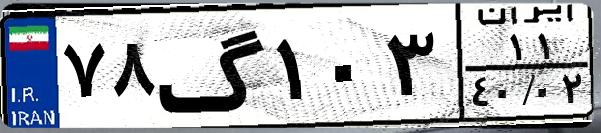0: (330, 28, 385, 110), (495, 70, 520, 125), (535, 70, 560, 125)
1: (270, 28, 330, 110), (537, 27, 568, 80), (508, 27, 537, 80)
2: (560, 70, 590, 125)
3: (385, 28, 445, 110)
4: (470, 70, 495, 125)
7: (57, 26, 110, 100)
8: (110, 28, 156, 98)
گ: (156, 12, 270, 120)
